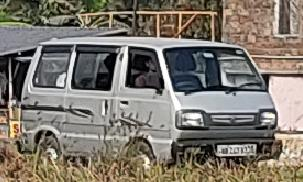Truck: (15, 33, 287, 169)
